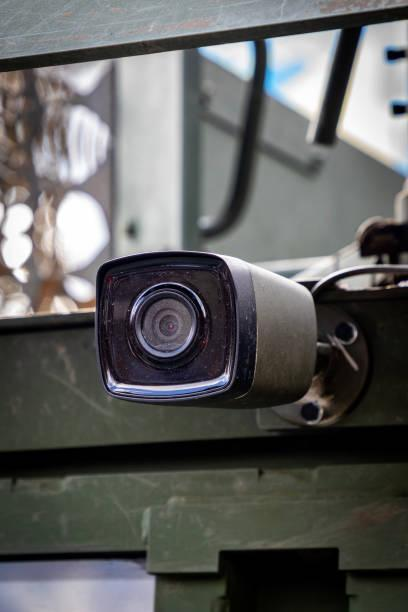camera: (80, 217, 335, 448)
